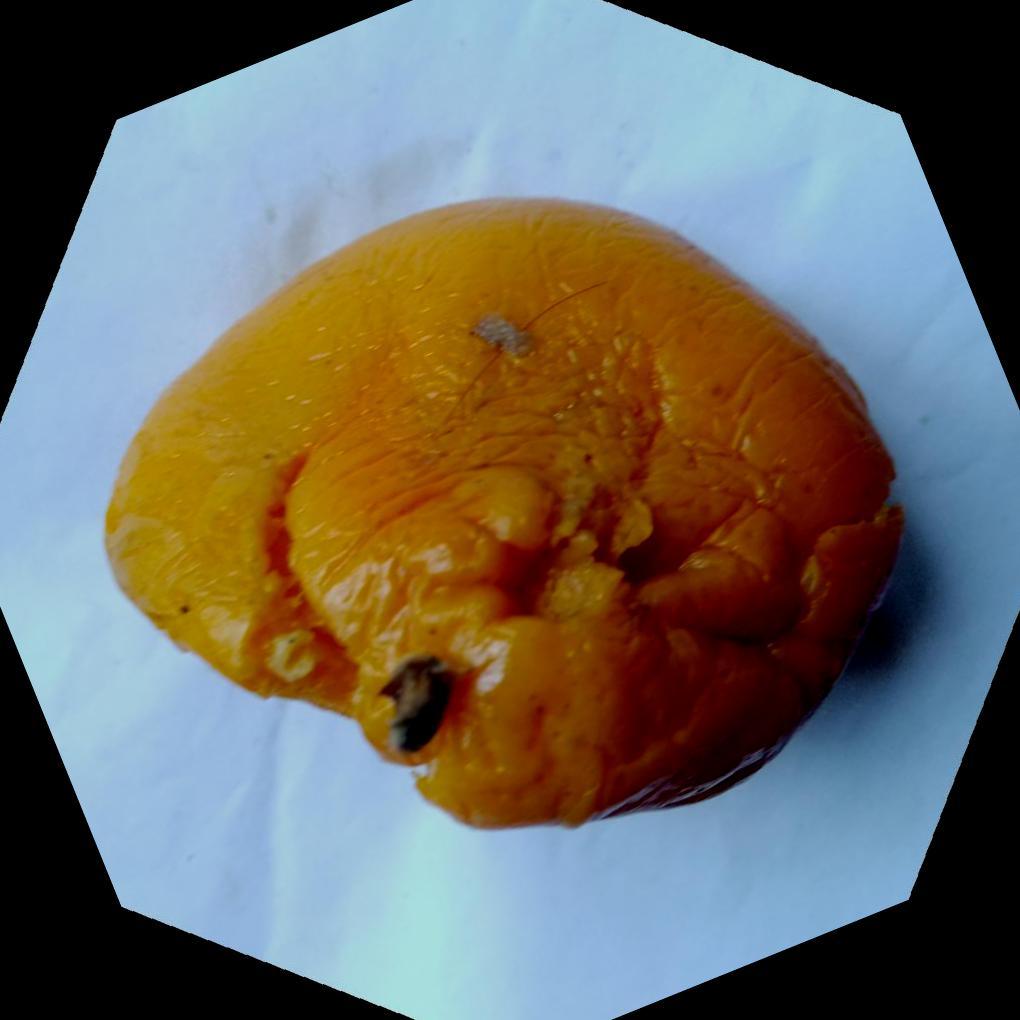FreshOrange: (97, 193, 903, 834)
